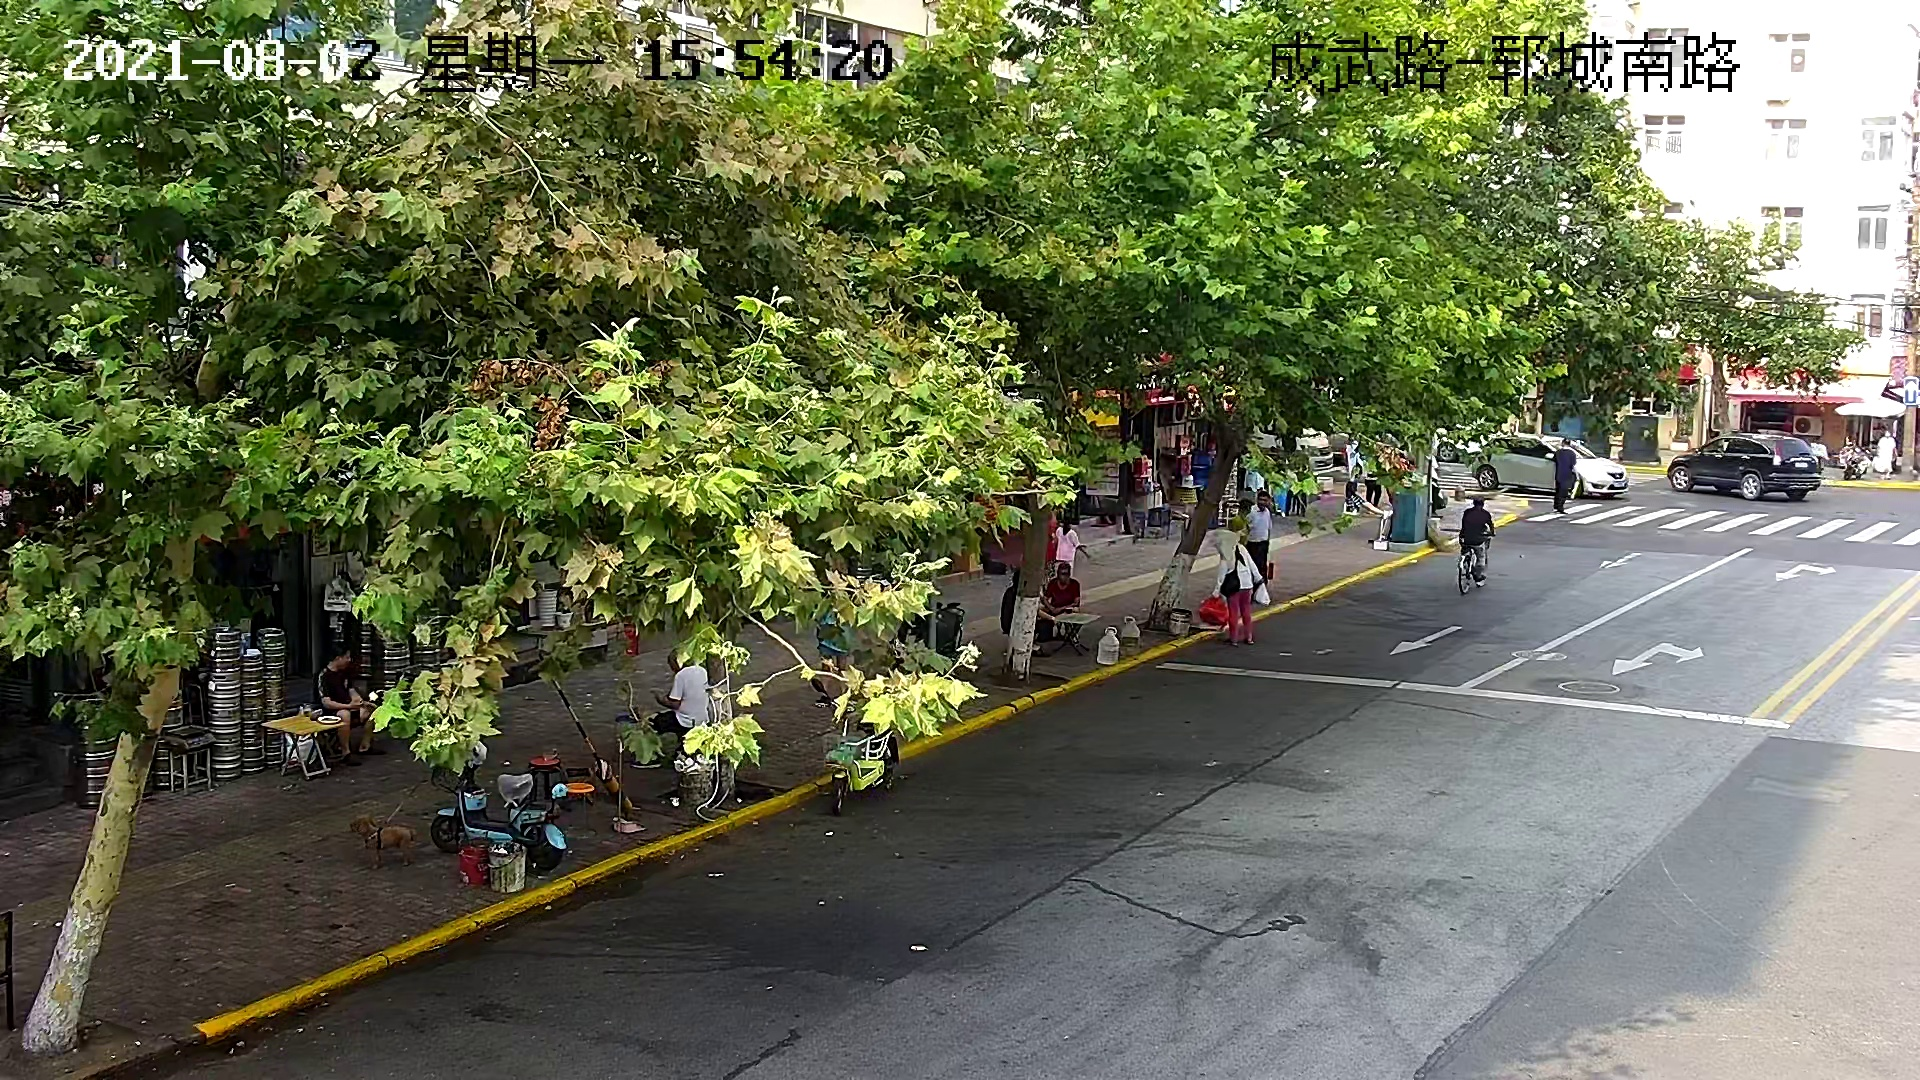chair: (556, 781, 595, 840), (525, 756, 566, 808), (320, 727, 353, 761)
table: (258, 713, 349, 781), (1051, 607, 1102, 657)
table_chair: (258, 711, 353, 782)
uncertain: (1833, 396, 1907, 419)
